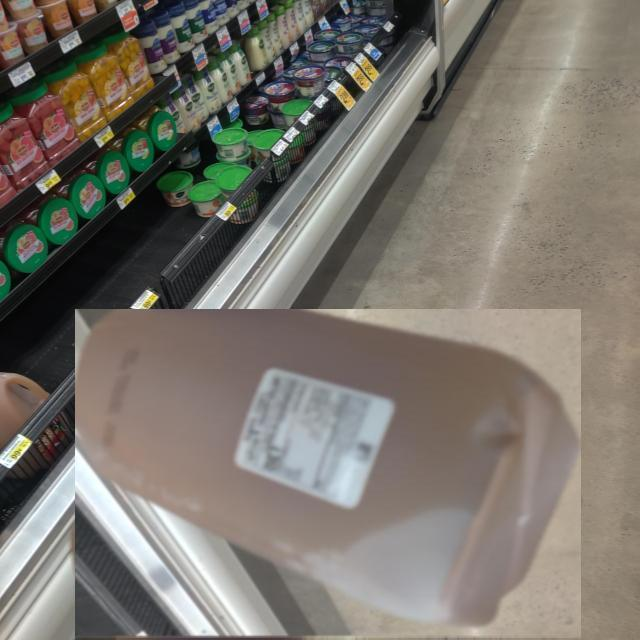Juice: (75, 310, 581, 640)
